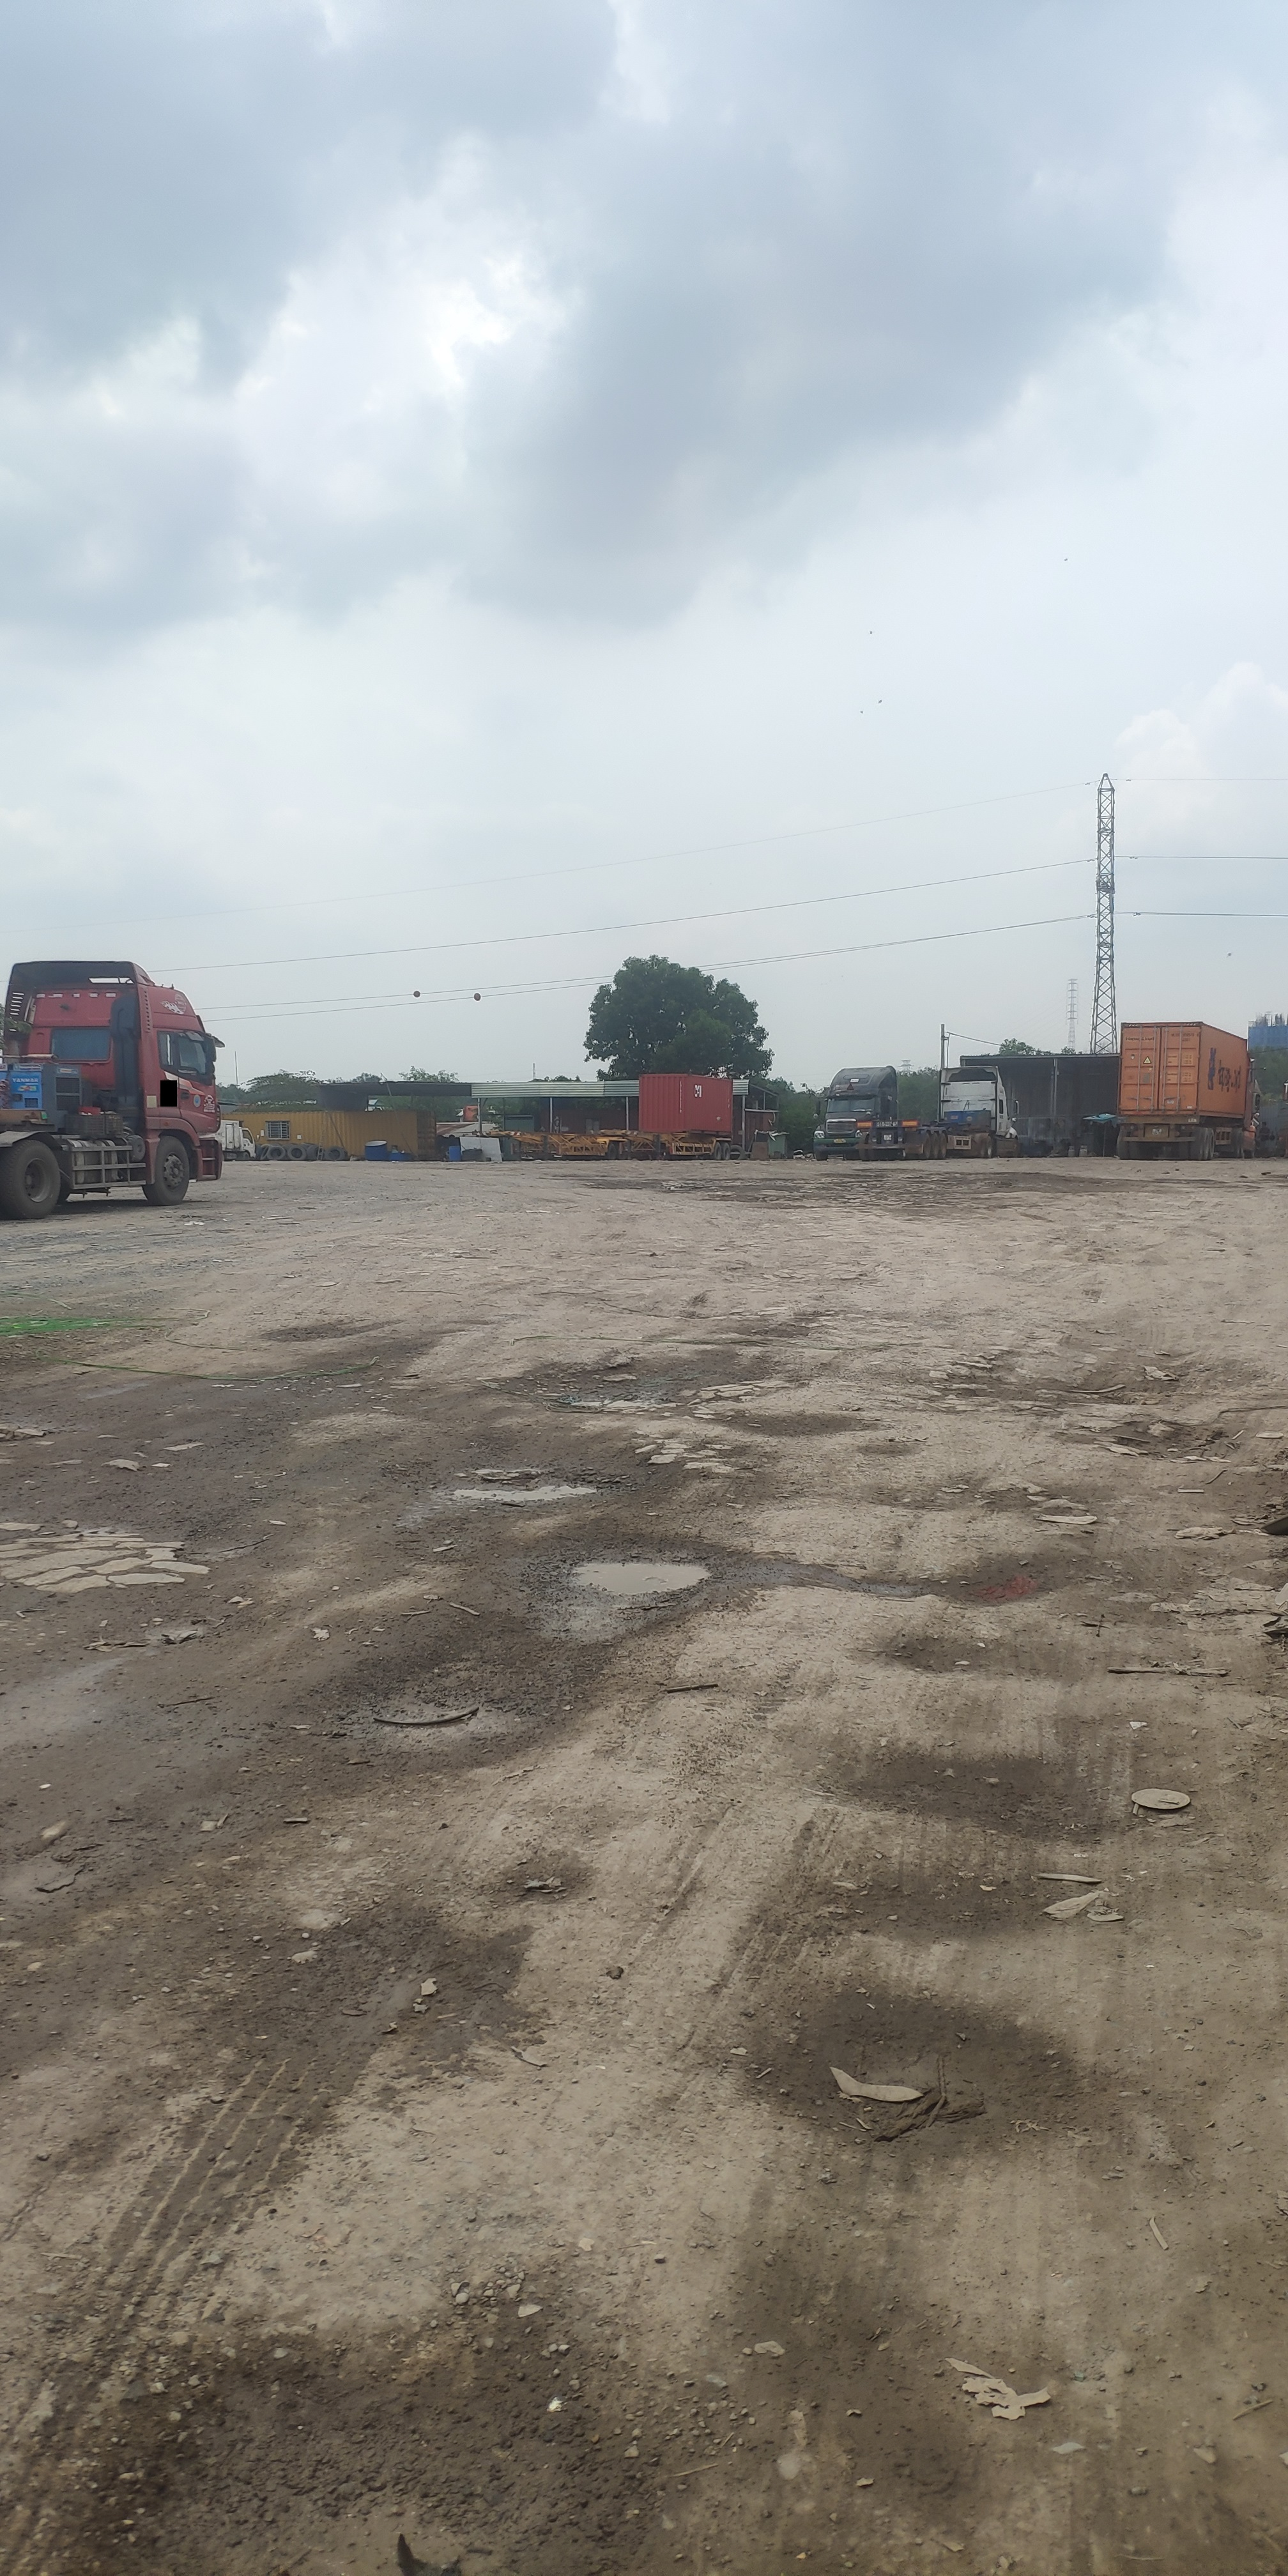hole: (754, 1993, 1038, 2147), (805, 1735, 1109, 1843), (797, 1866, 1069, 1948), (490, 1354, 785, 1418), (963, 1342, 1219, 1410), (545, 1531, 734, 1612), (904, 1538, 1094, 1607), (396, 1460, 628, 1515), (1096, 1411, 1272, 1472), (854, 1464, 1024, 1515), (164, 1518, 276, 1577), (885, 1620, 982, 1679), (930, 1168, 1104, 1198), (253, 1313, 379, 1349), (677, 1181, 812, 1203), (747, 1311, 821, 1345), (810, 1171, 890, 1181), (540, 1171, 632, 1180), (851, 1166, 923, 1173)
